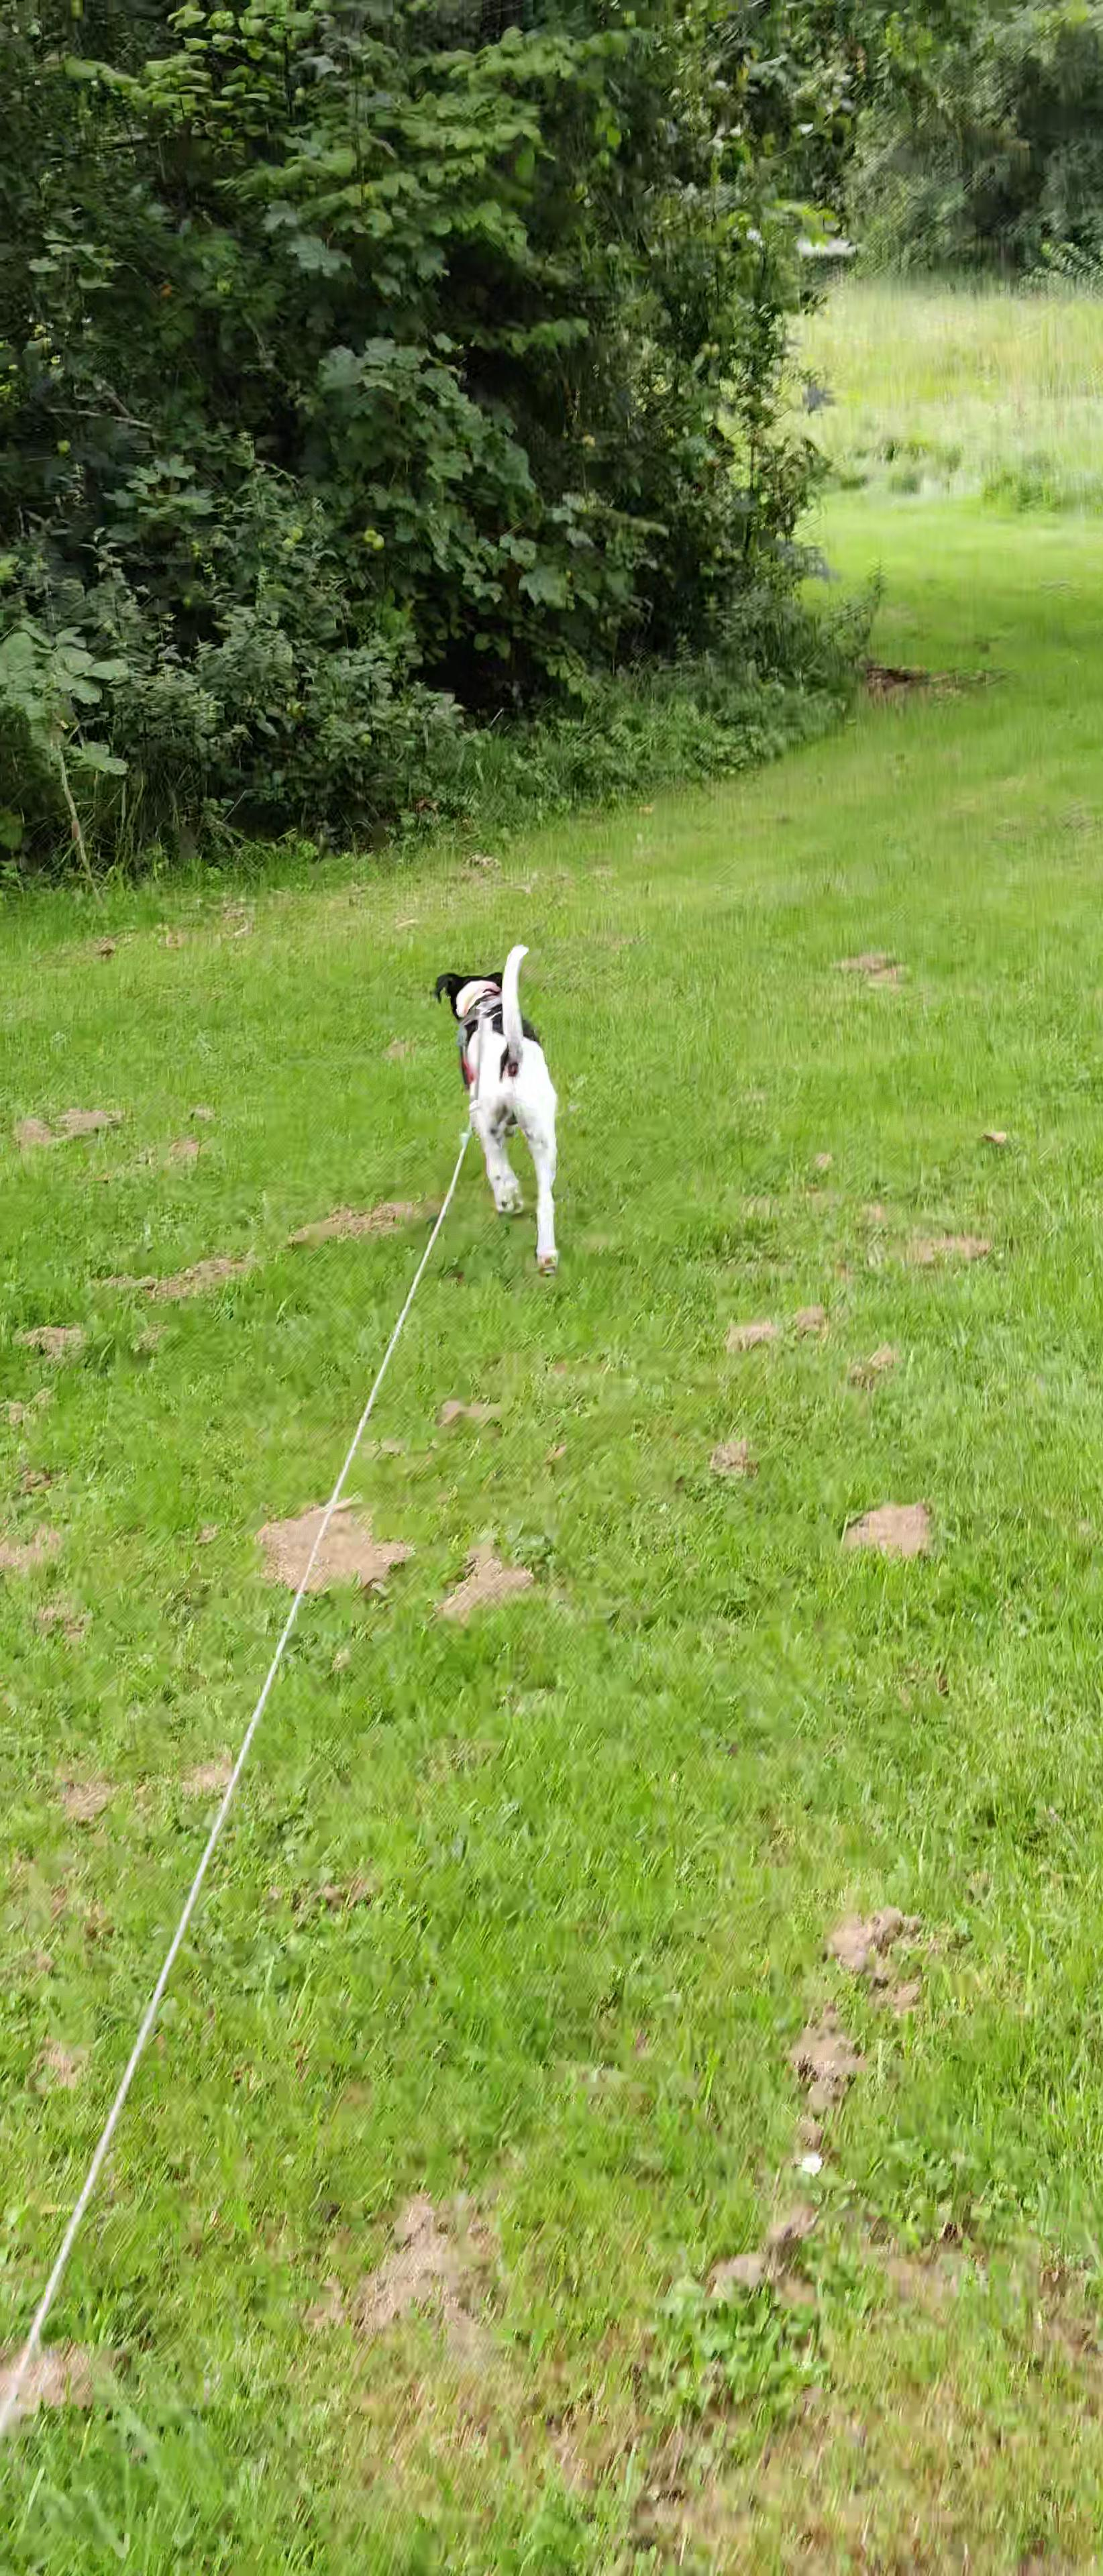Dog: (426, 941, 562, 1285)
